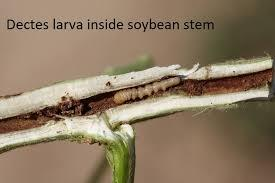Insects: (112, 75, 182, 106)
